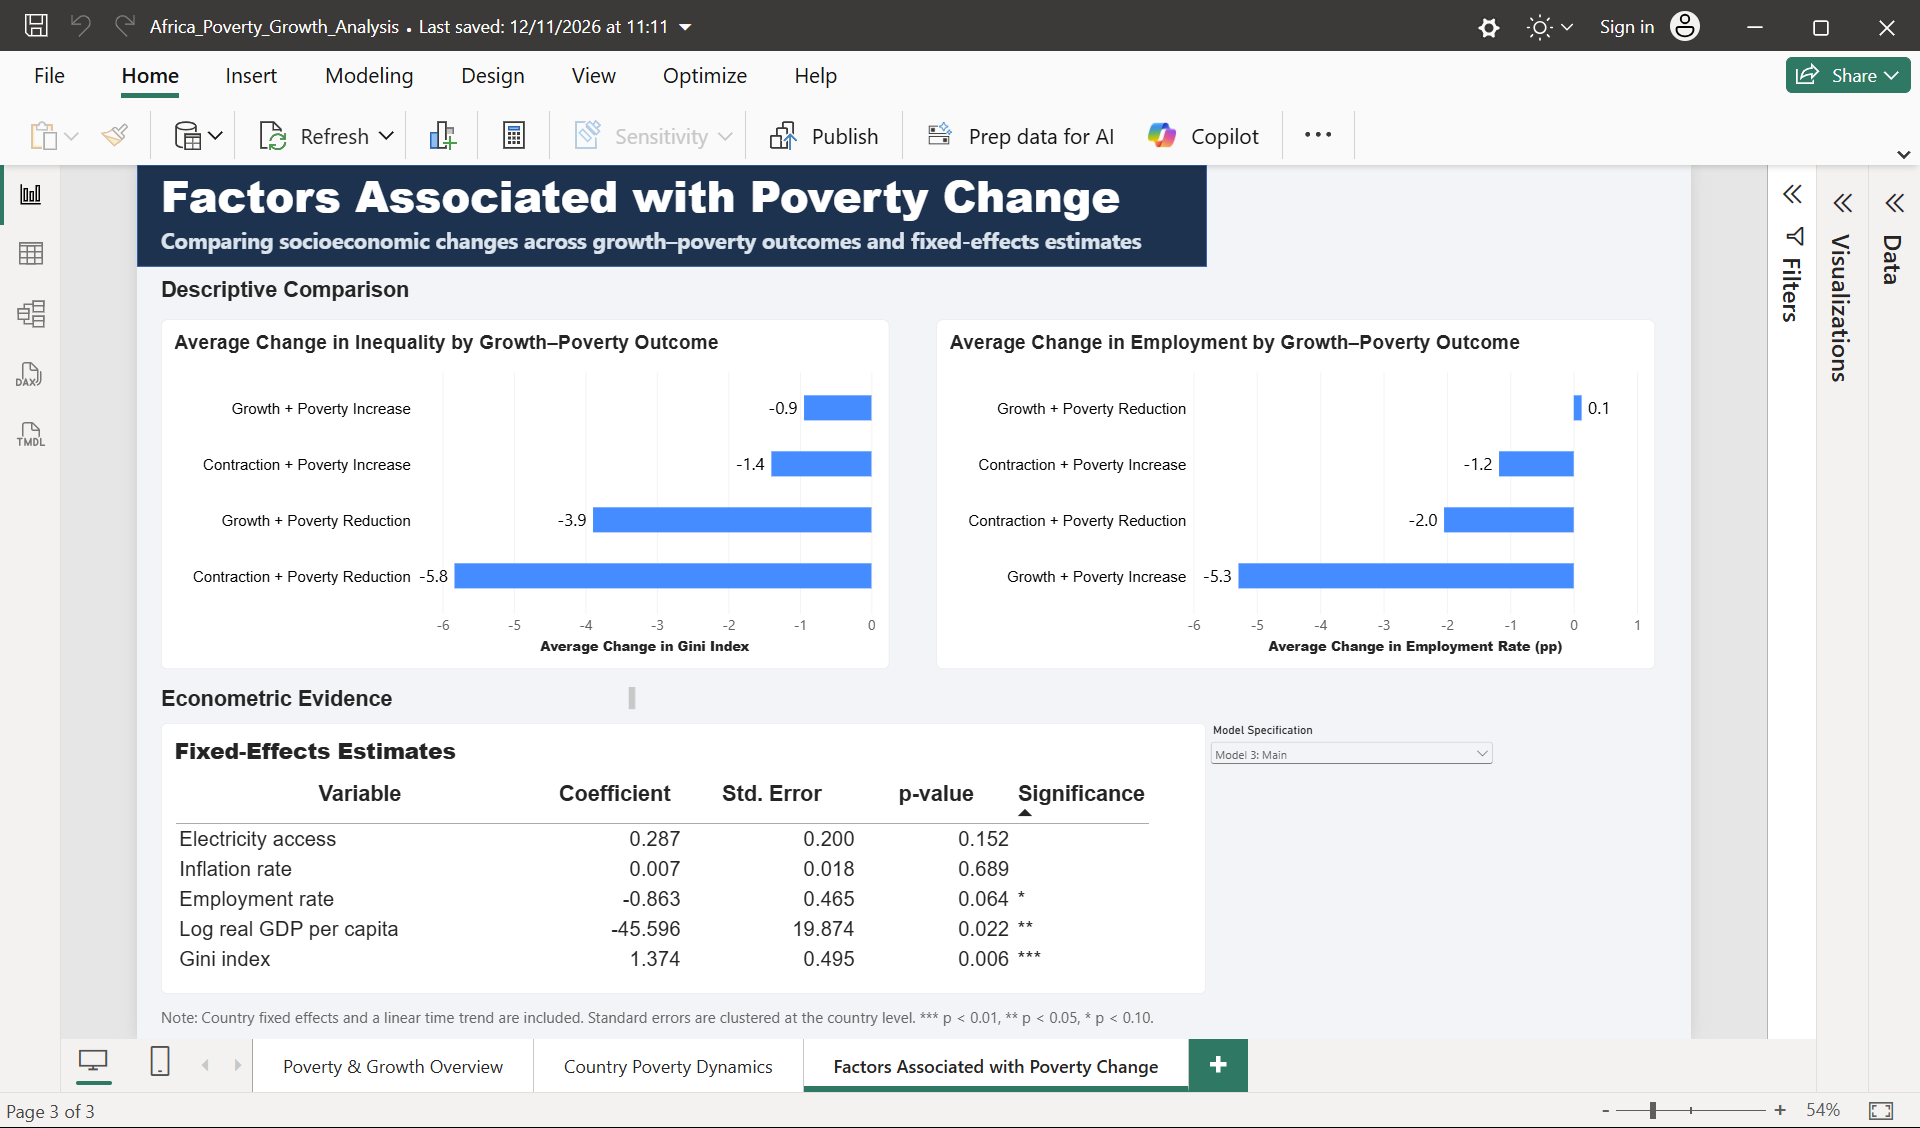

Layout of this report page (visuals, bound fields, positions):
{"tool":"powerbi","page":{"name":"Factors Associated with Poverty Change","canvas":[1920,1080],"ordinal":2},"visuals":[{"type":"shape","box":[0,0,1322,125.7],"z":0},{"type":"textbox","box":[30.4,0,1253,125.7],"z":1000},{"type":"clusteredBarChart","title":"Average Change in Inequality by Growth–Poverty Outcome","fields":{"Category":["powerbi_factors.growth_poverty_pattern"],"Y":["Avg(powerbi_factors.gini_change)"]},"box":[30.4,190.6,900.2,431.9],"z":2000},{"type":"clusteredBarChart","title":"Average Change in Employment by Growth–Poverty Outcome","fields":{"Category":["powerbi_factors.growth_poverty_pattern"],"Y":["Avg(powerbi_factors.employment_change_pp)"]},"box":[987.4,190.6,888.1,431.9],"z":3000},{"type":"tableEx","title":"Fixed-Effects Estimates","fields":{"Values":["powerbi_regression_results.variable","powerbi_regression_results.coefficient","powerbi_regression_results.std_error","powerbi_regression_results.p_value","powerbi_regression_results.significance"]},"box":[30.4,689.4,1291.6,334.5],"z":4000},{"type":"slicer","title":"Model Specification","fields":{"Values":["powerbi_regression_results.model"]},"box":[1322,689.4,358.9,50.7],"z":5000},{"type":"textbox","box":[30.4,139.9,1555.1,34.5],"z":6000},{"type":"textbox","box":[30.4,644.8,586,28.4],"z":7000},{"type":"textbox","box":[30.4,1040.1,1271.3,40.6],"z":8000}]}

Visuals, with their boxes on the page's 1920x1080 design canvas (x1, y1, x2, y2). These are canvas units, not pixel positions in the 1920x1128 screenshot, which may show the page scaled, cropped or inside an application window:
shape: select_region(0, 0, 1322, 126)
textbox: select_region(30, 0, 1283, 126)
"Average Change in Inequality by Growth–Poverty Outcome" clusteredBarChart: select_region(30, 191, 931, 622)
"Average Change in Employment by Growth–Poverty Outcome" clusteredBarChart: select_region(987, 191, 1876, 622)
"Fixed-Effects Estimates" tableEx: select_region(30, 689, 1322, 1024)
"Model Specification" slicer: select_region(1322, 689, 1681, 740)
textbox: select_region(30, 140, 1586, 174)
textbox: select_region(30, 645, 616, 673)
textbox: select_region(30, 1040, 1302, 1081)
